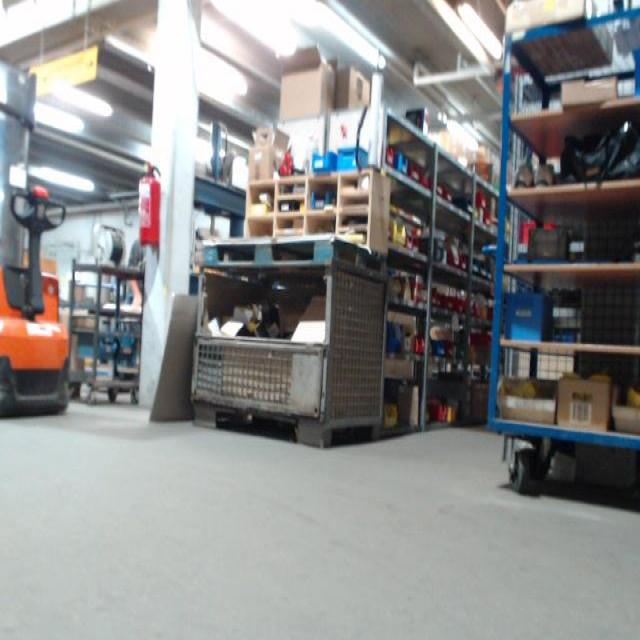pallet_truck: (1, 57, 76, 421)
small_load_carrier: (504, 279, 548, 346)
stillage: (185, 261, 389, 448)
